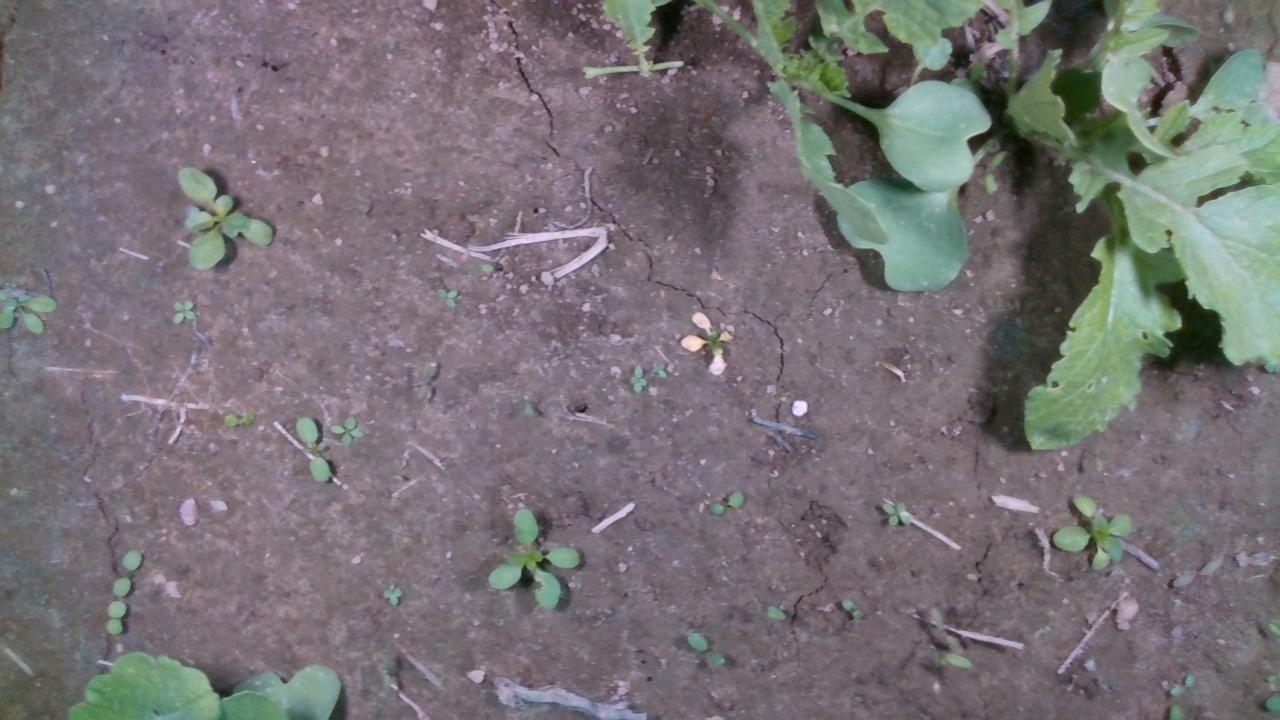weed: (108, 547, 143, 597), (684, 631, 726, 669), (706, 488, 744, 519), (327, 415, 364, 445), (879, 497, 912, 526), (103, 599, 127, 635), (625, 361, 647, 395), (169, 298, 196, 323), (220, 410, 258, 427), (435, 286, 459, 310), (379, 582, 403, 605), (840, 597, 862, 619), (650, 359, 666, 380)
